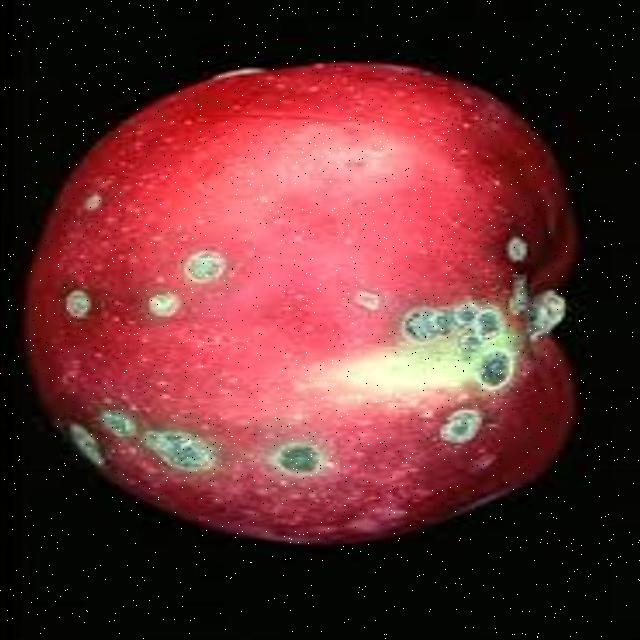SCAB: (26, 68, 594, 548)
